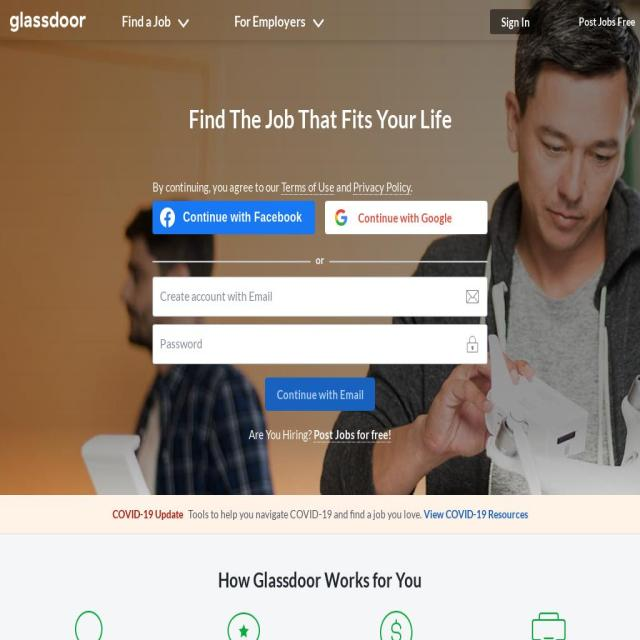button: (0, 495, 640, 534), (153, 201, 315, 234), (325, 201, 487, 234), (265, 377, 375, 411), (490, 9, 541, 34), (314, 427, 391, 442), (353, 179, 411, 195), (282, 179, 334, 195)
field: (152, 276, 488, 316), (152, 324, 488, 364)
heading: (188, 71, 452, 166), (15, 568, 625, 592), (234, 12, 306, 36), (121, 12, 170, 36), (310, 12, 326, 32), (176, 12, 190, 32)
iframe: (153, 201, 315, 234)
image: (10, 12, 86, 32), (71, 606, 111, 640), (224, 606, 264, 640), (376, 606, 416, 640), (529, 606, 569, 640), (465, 286, 480, 306), (465, 334, 480, 354), (158, 208, 172, 228), (335, 209, 347, 226)
link: (423, 507, 528, 521), (112, 505, 183, 523), (579, 14, 635, 28)
text: (188, 507, 424, 521), (152, 179, 282, 194), (160, 288, 272, 304), (176, 211, 298, 224), (345, 211, 465, 224), (248, 426, 314, 442), (160, 335, 202, 351), (310, 252, 330, 268), (334, 179, 354, 194), (410, 179, 412, 194)
